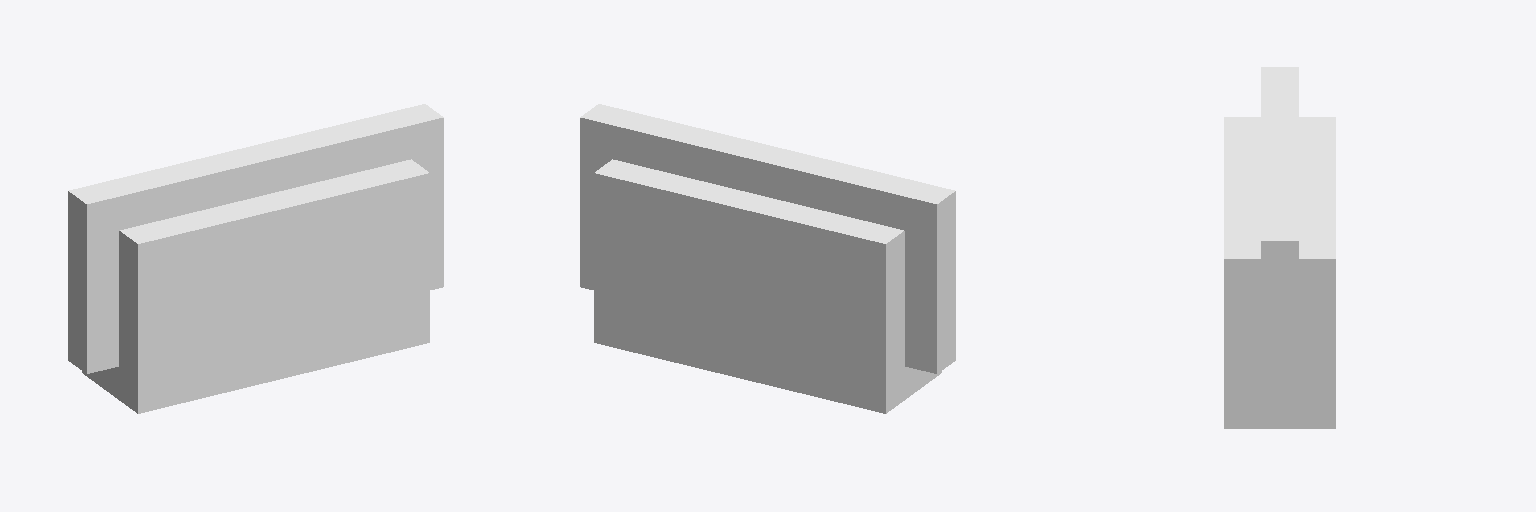
File: switch.obj
3 renders of one model, left to right at view 1: azimuth 30°, elevation 25°; view 2: azimuth 150°, elevation 25°; view 3: azimuth 270°, elevation 25°, orthographic.
Visible parts, largest first — view 1: object 1; view 2: object 1; view 3: object 1.
Boxes of the visible parts, box(x1,y1,x2,y2) form: object 1: box(68, 104, 443, 413); object 1: box(580, 104, 955, 413); object 1: box(1224, 67, 1335, 428).
Size of the model in its own units: 1.1 by 0.6 by 0.3.